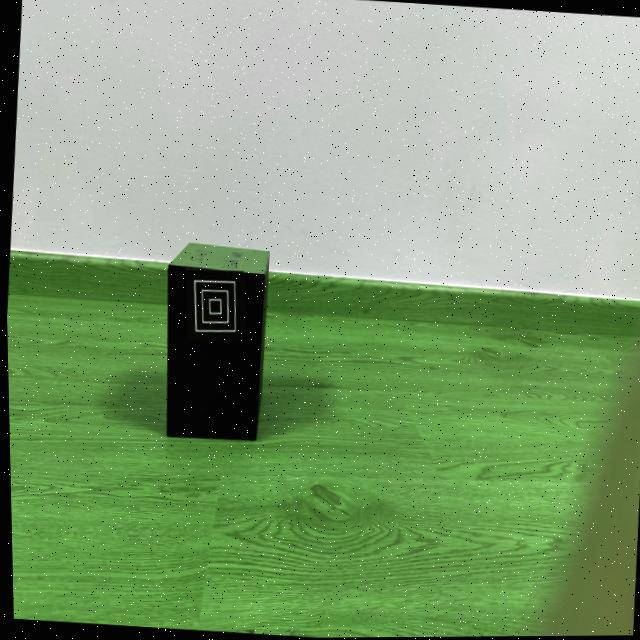BULLSEYE: (183, 269, 242, 344)
